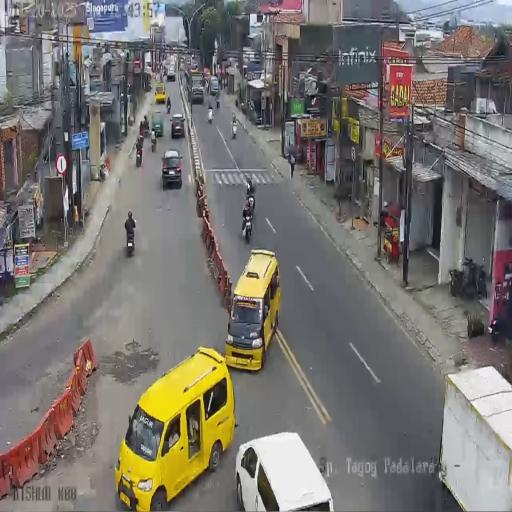car: (115, 348, 235, 508), (234, 431, 332, 510), (226, 248, 280, 370), (162, 149, 184, 189), (171, 114, 185, 138), (151, 113, 164, 138), (155, 82, 166, 104), (209, 76, 219, 96), (166, 62, 176, 80), (144, 62, 153, 81), (204, 68, 210, 84), (186, 56, 191, 68)
motorcycle: (125, 223, 136, 256), (242, 210, 252, 242), (150, 133, 156, 152), (143, 115, 148, 135), (166, 96, 171, 113), (208, 110, 213, 124), (216, 95, 220, 109)
truck: (187, 70, 205, 104), (190, 57, 197, 71), (180, 58, 185, 71)
